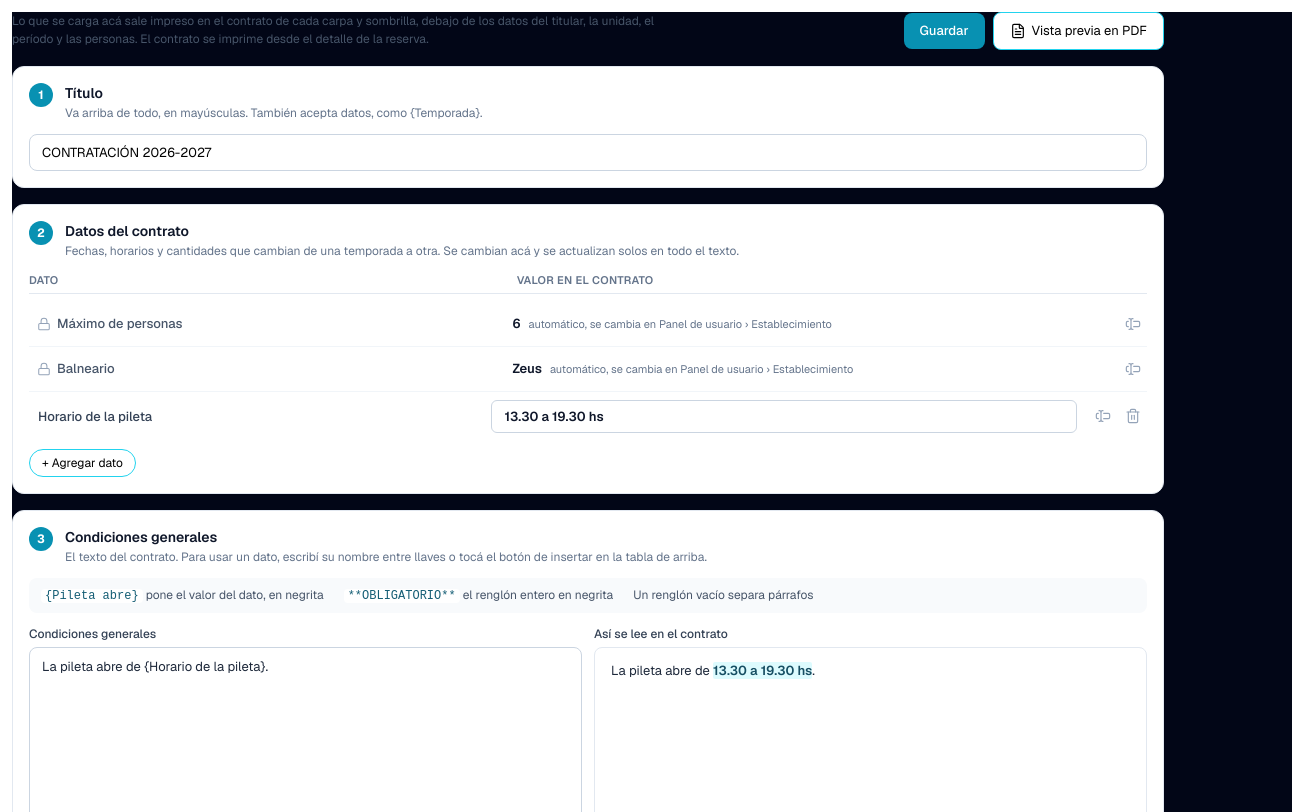
Scenario: Panel de usuario > Contrato › no deja guardar un dato con el nombre de uno del sistema
Replace the text in the 2nd field named "Nombre del dato 1" with "Máximo de personas" at (254, 416), box left=29, top=400, right=479, bottom=433
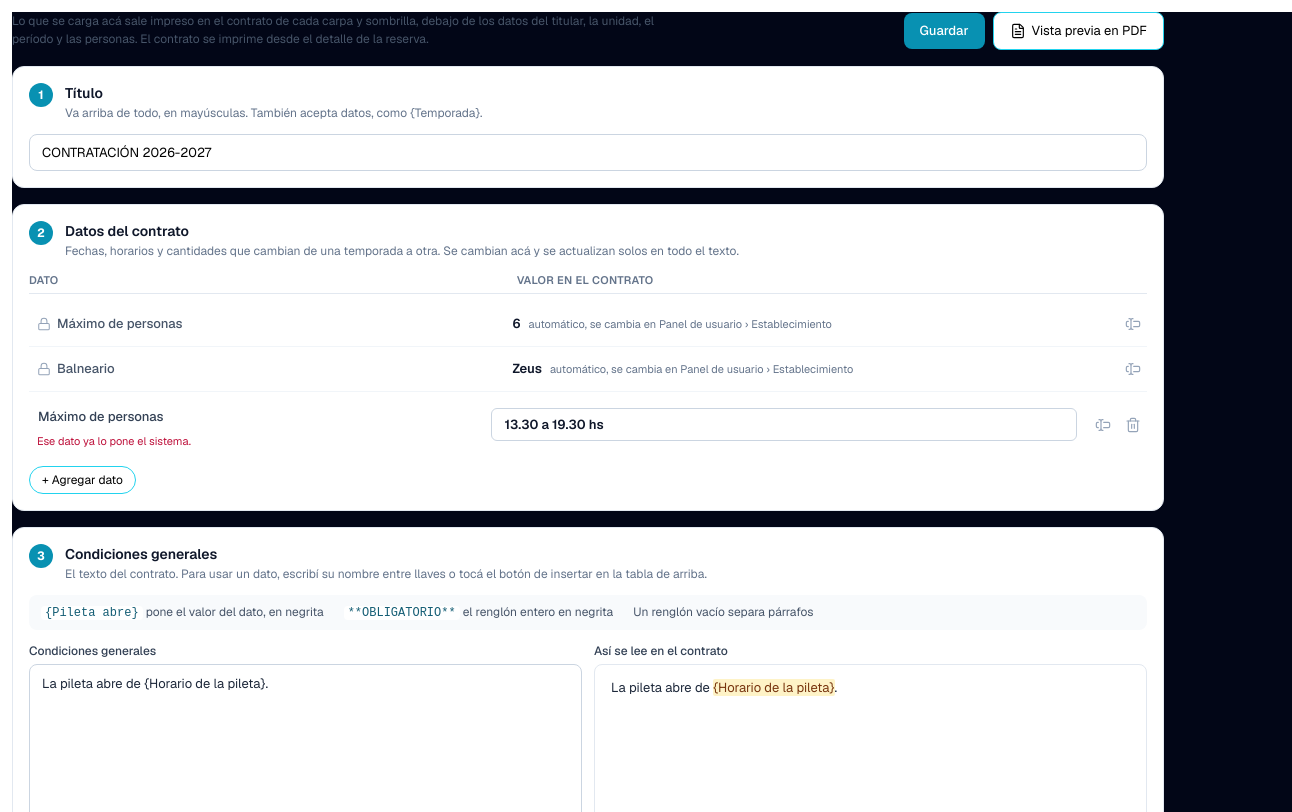
Now the text "Ese dato ya lo pone el sistema." is shown, box left=37, top=434, right=191, bottom=448
Click the button "Guardar" at (944, 31), box left=904, top=13, right=984, bottom=48
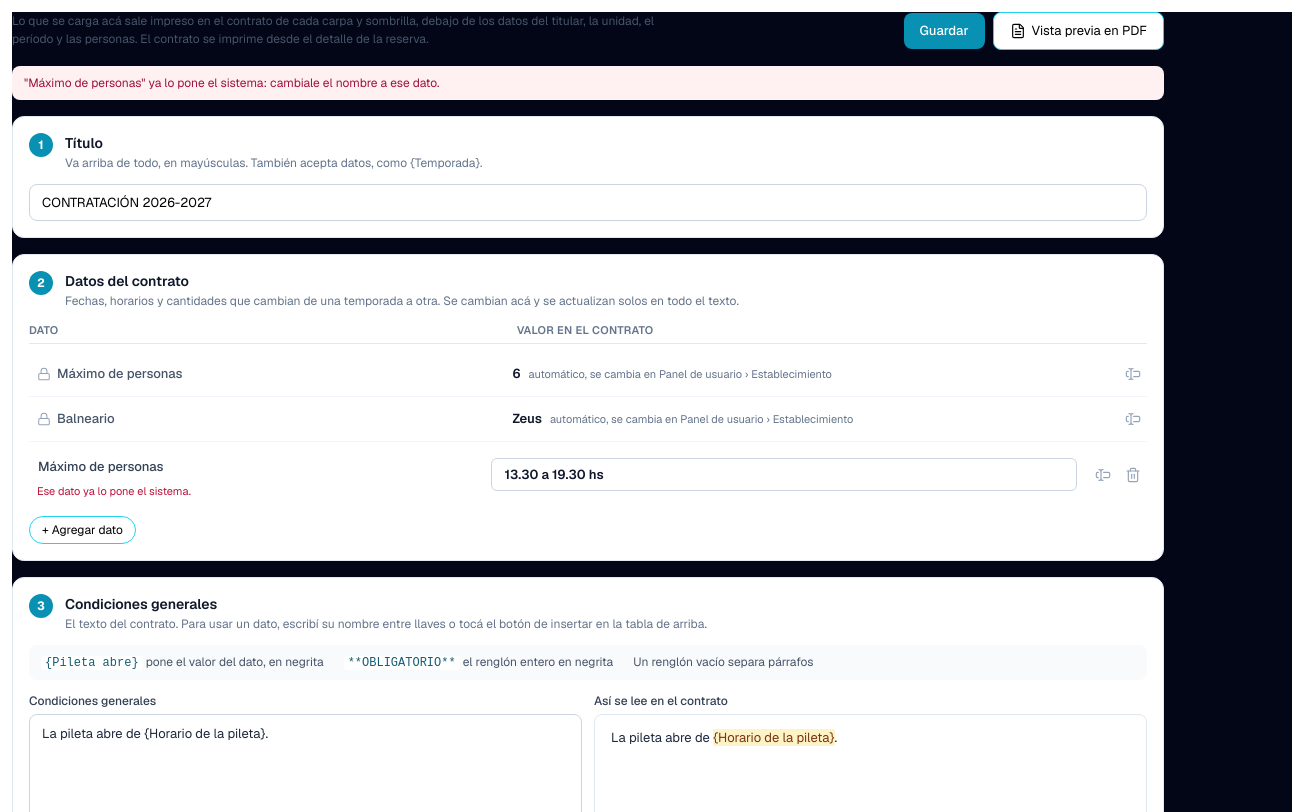
Now the message shows "ya lo pone el sistema", box left=24, top=74, right=440, bottom=90
